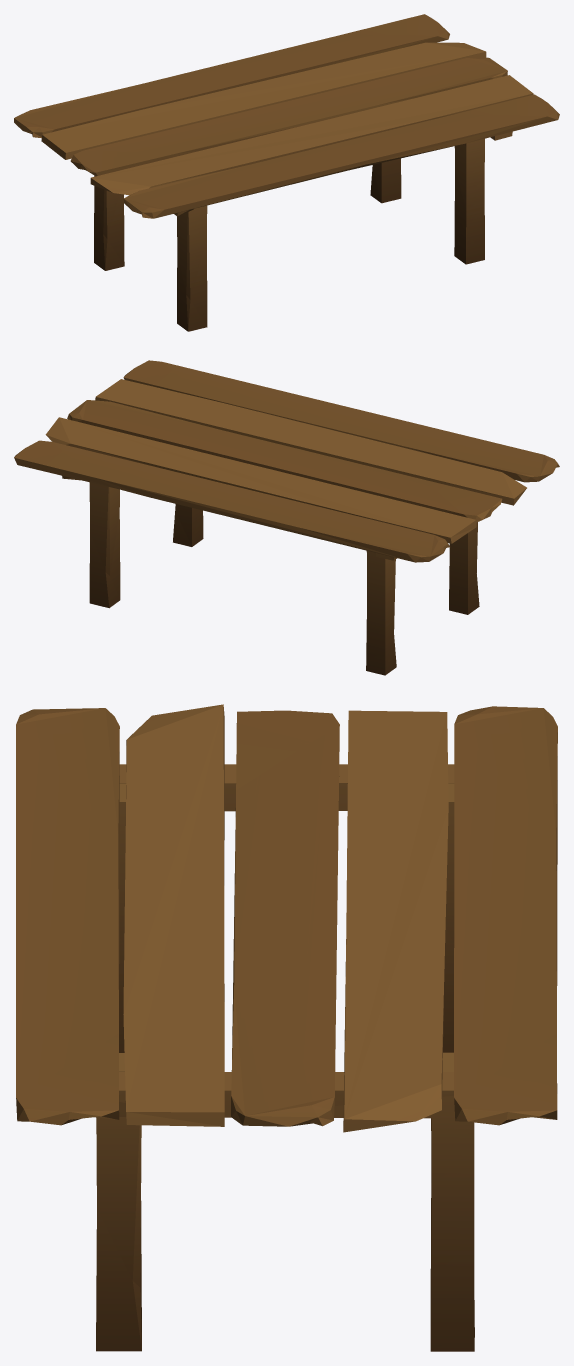
Rendered from Table_01.fbx.
The picture shows the model from 3 angles, top to bottom: view 1: azimuth 30°, elevation 25°; view 2: azimuth 150°, elevation 25°; view 3: azimuth 270°, elevation 25°; orthographic projection. The views are drawn at different scales.
Parts seen in each view (by area): view 1: Table_01; view 2: Table_01; view 3: Table_01.
Boxes of the visible parts, x1,y1,x2,y2 form: Table_01: [14, 14, 559, 331]; Table_01: [14, 360, 559, 675]; Table_01: [16, 704, 557, 1351].
Bounding box in the file's own units: 246 × 81.9 × 136.
